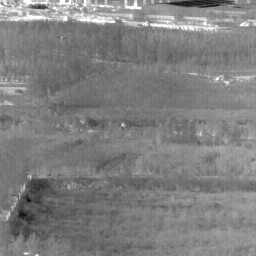aircraft: (60, 36, 62, 38)
